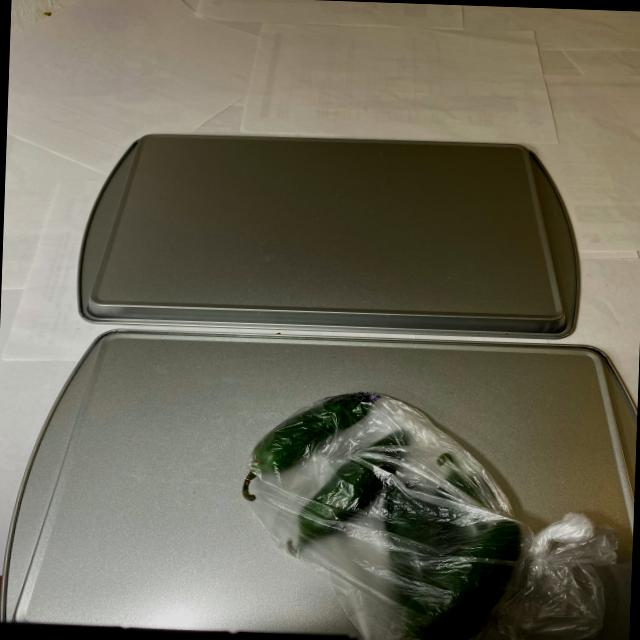chilli: (238, 387, 545, 640)
